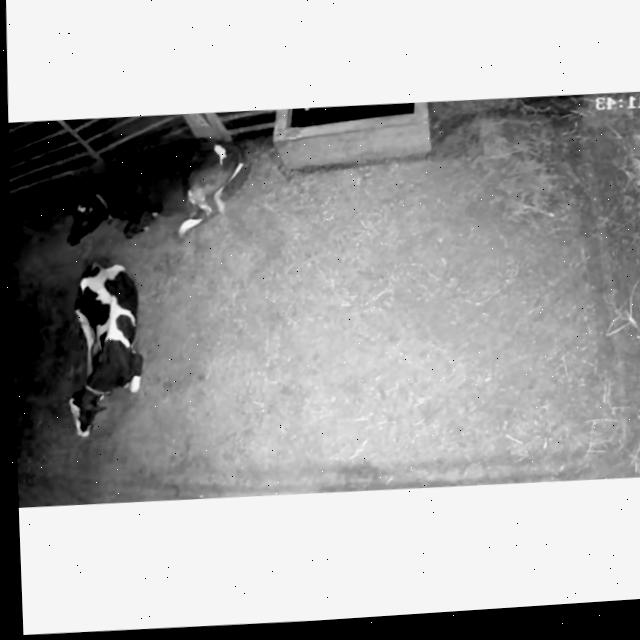lay: (53, 121, 264, 255), (50, 245, 159, 451)
